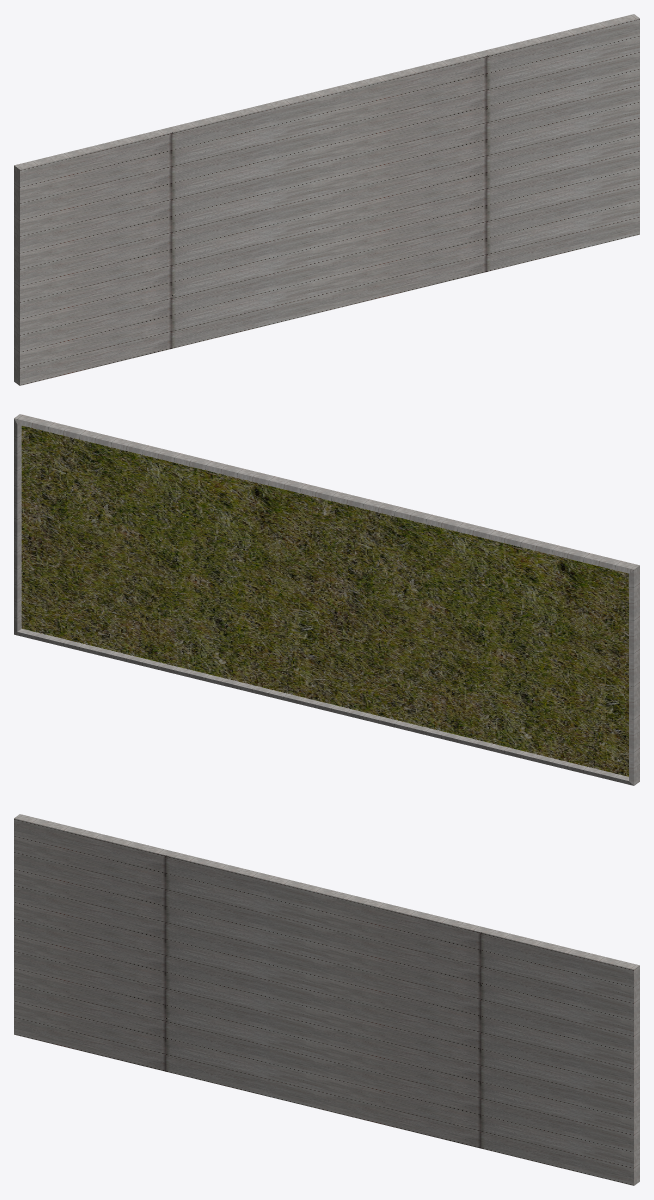
File: grass_area.FBX
The picture shows the model from 3 angles, top to bottom: view 1: azimuth 30°, elevation 25°; view 2: azimuth 150°, elevation 25°; view 3: azimuth 330°, elevation 25°; orthographic projection.
Visible parts, largest first — view 1: Box001; view 2: Box001; view 3: Box001.
Boxes of the visible parts, x1=… form: Box001: x1=14, y1=14, x2=639, y2=385; Box001: x1=14, y1=414, x2=639, y2=785; Box001: x1=14, y1=814, x2=639, y2=1185.
Bounding box in the file's own units: 1461 × 487 × 27.52.
